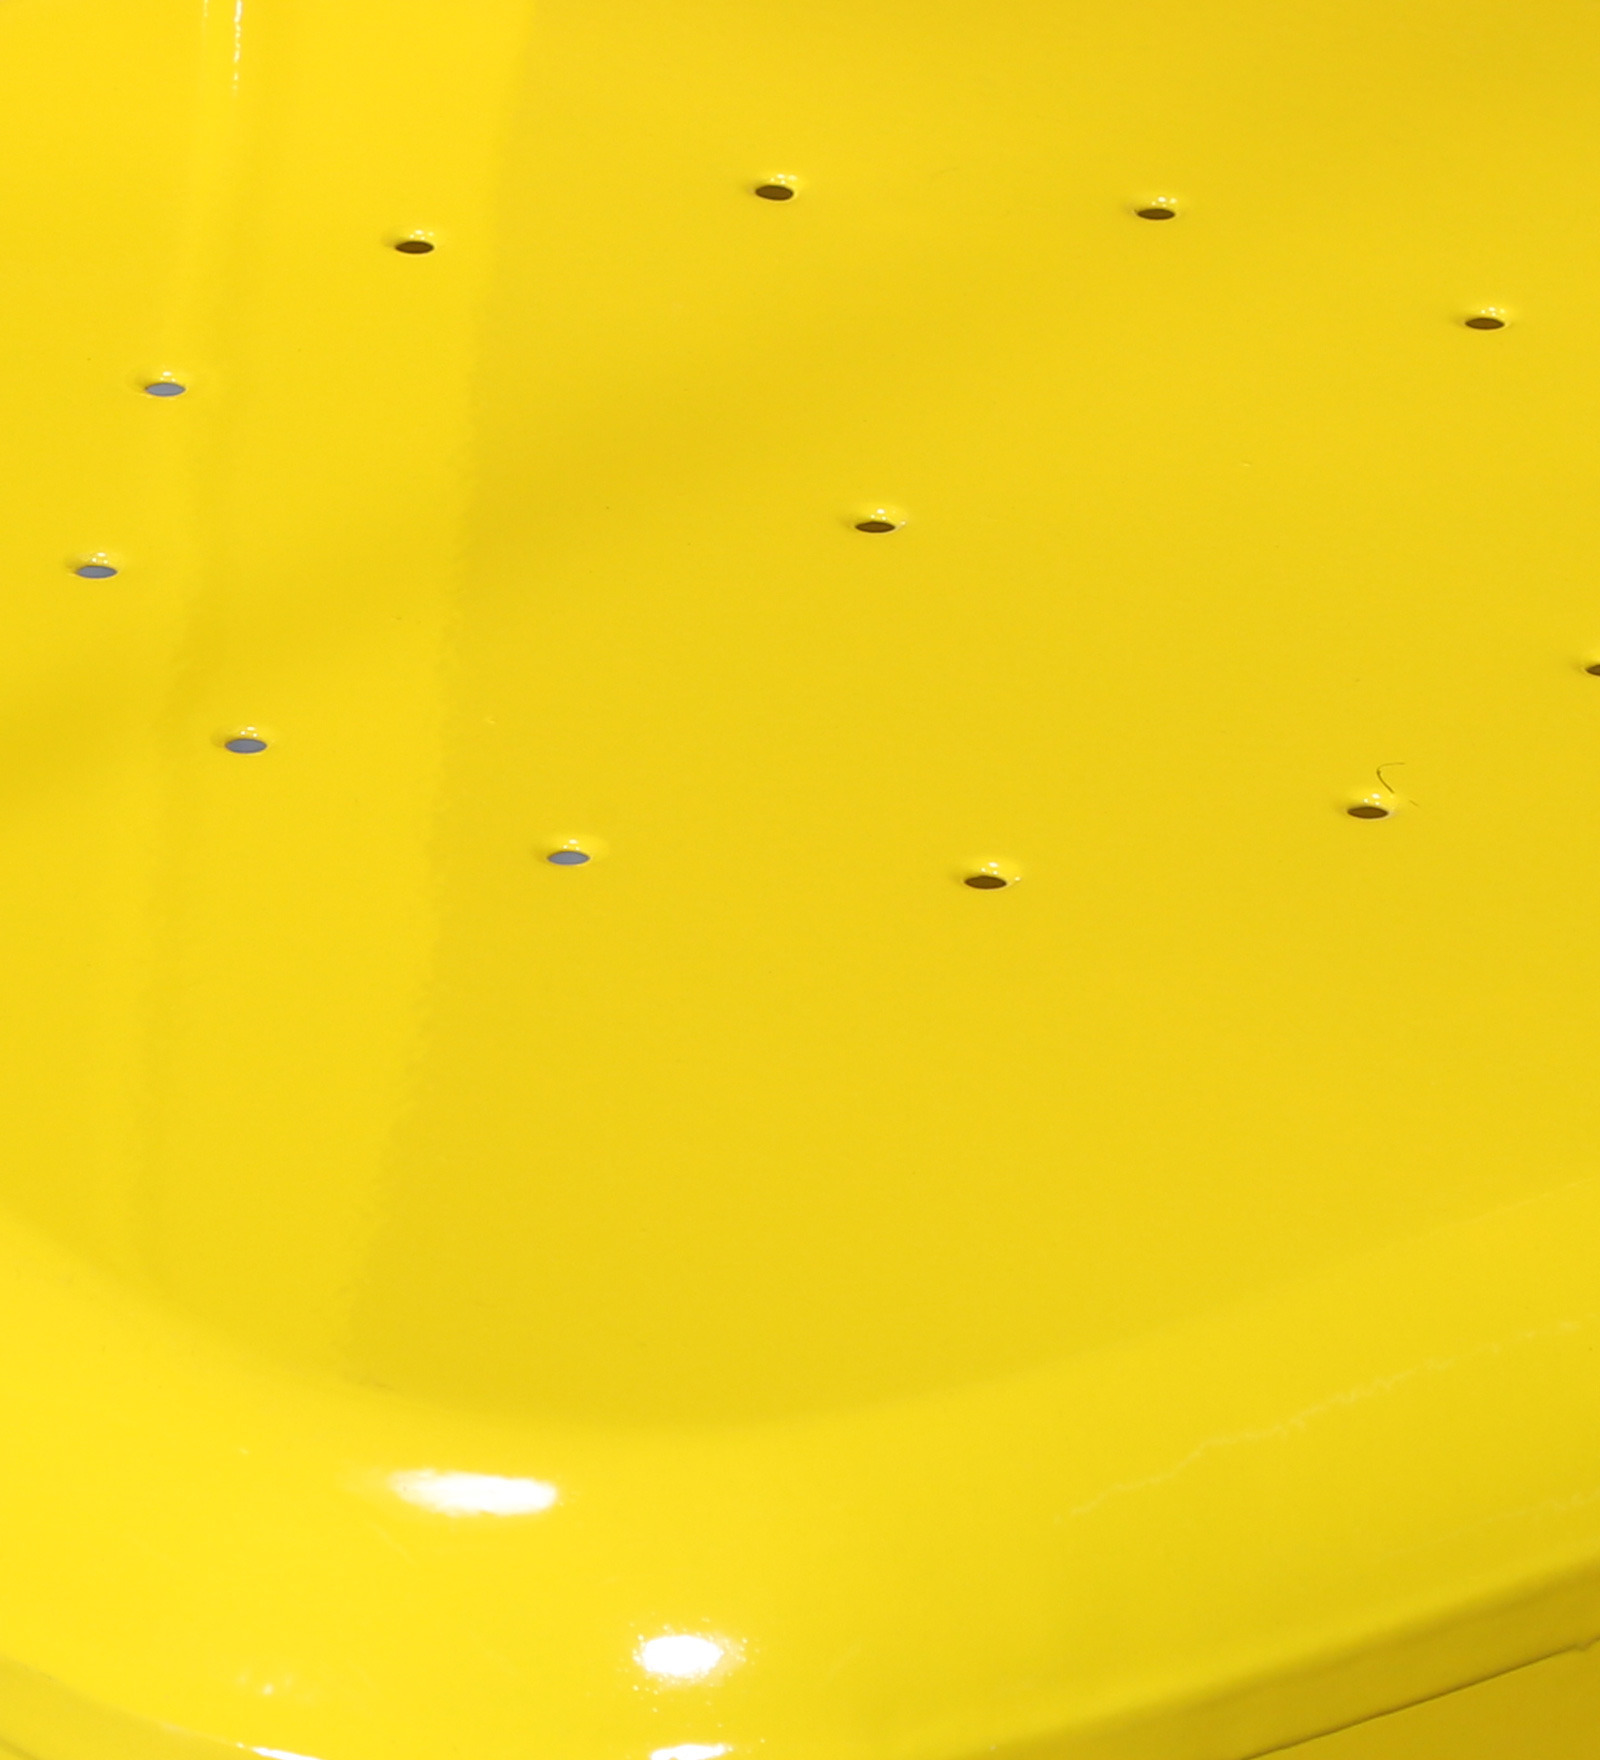Ekati Metal Chair in Yellow Color by Bohemiana: (6, 5, 1591, 1760)
